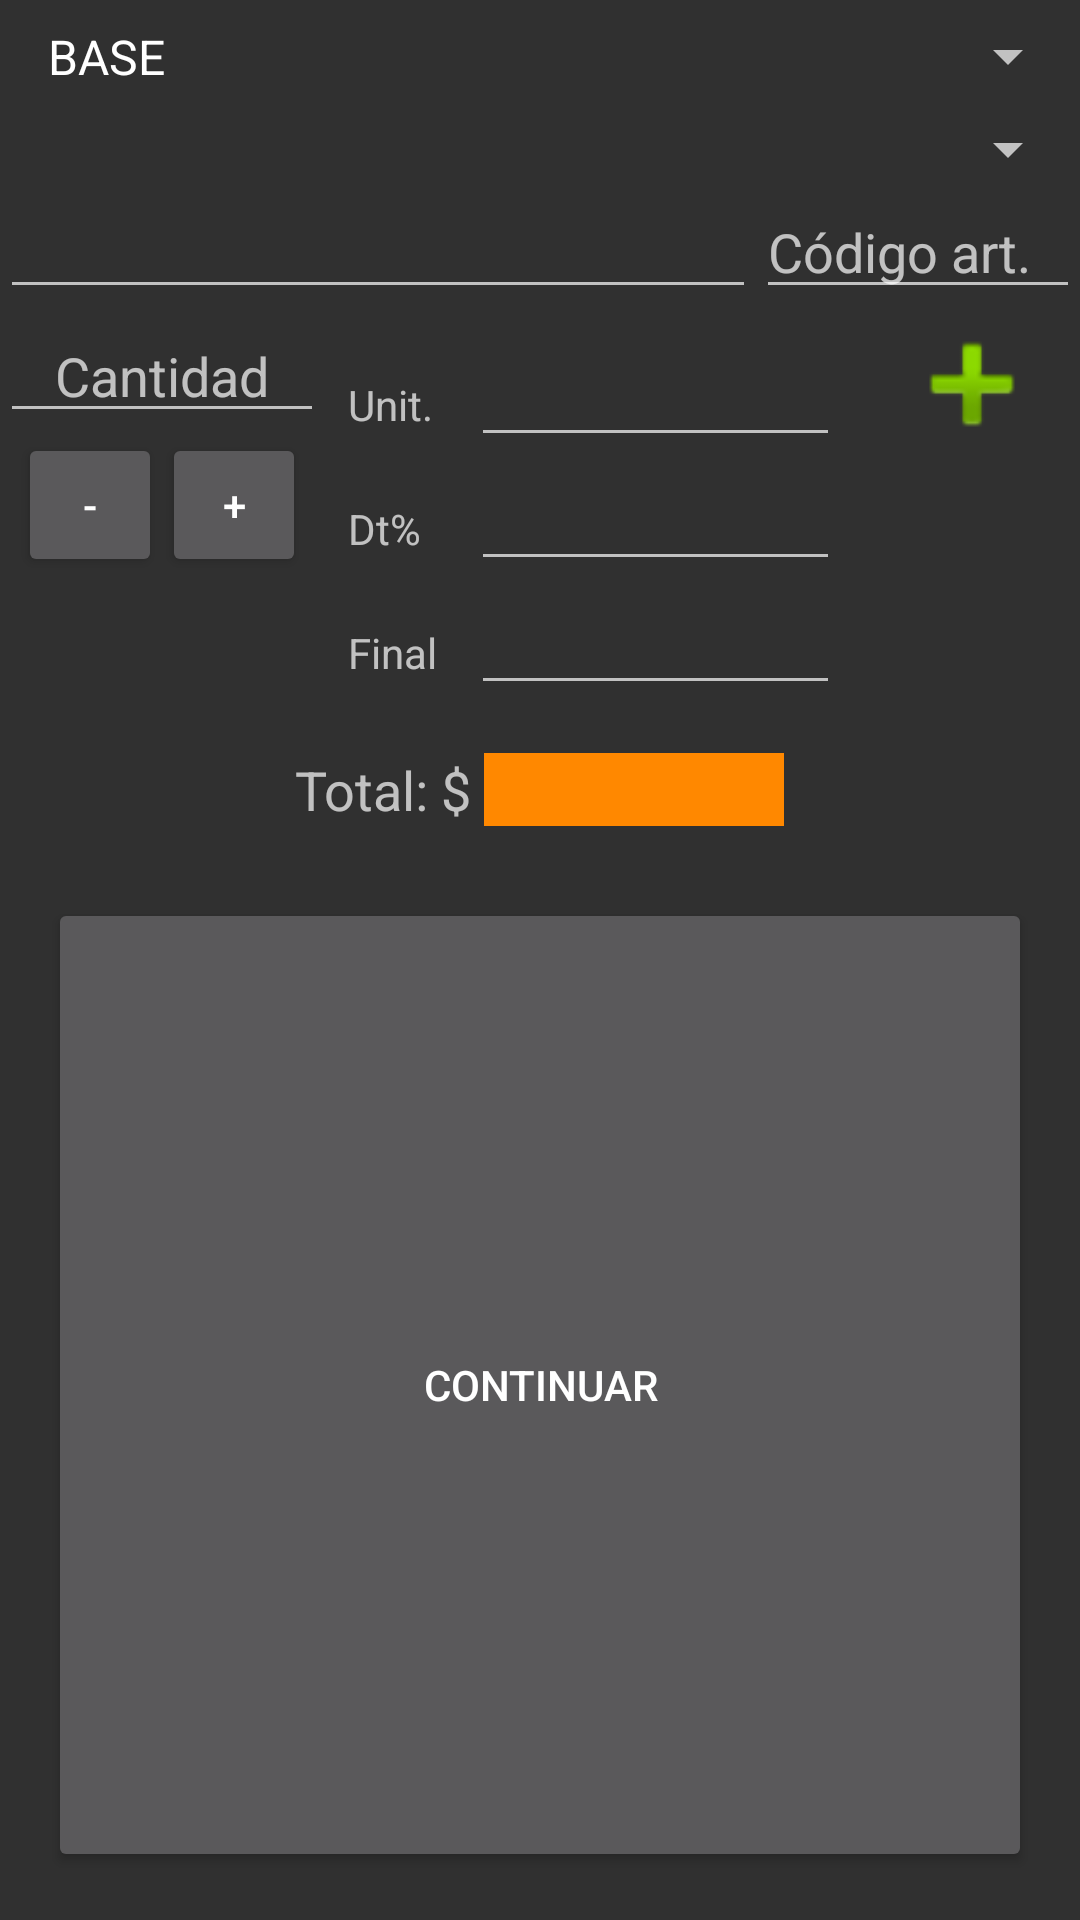

Where to tap for icons on this 1080×1920 app screen, as [x,y]:
add: [972,384]
